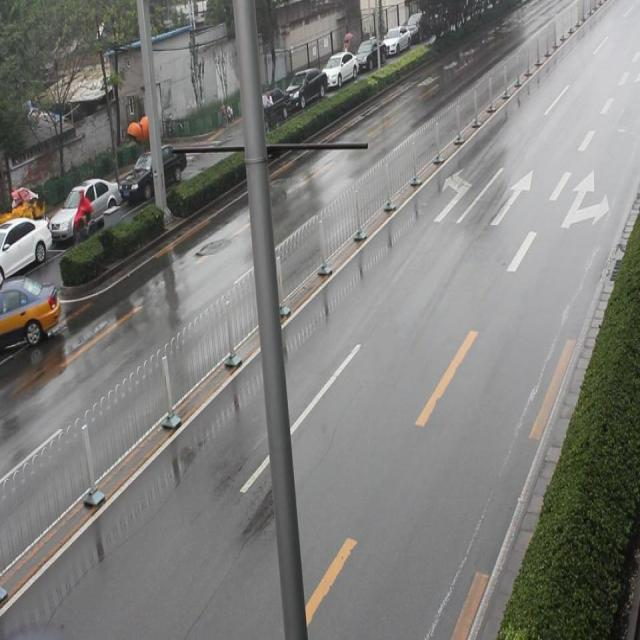car: (1, 274, 63, 358)
